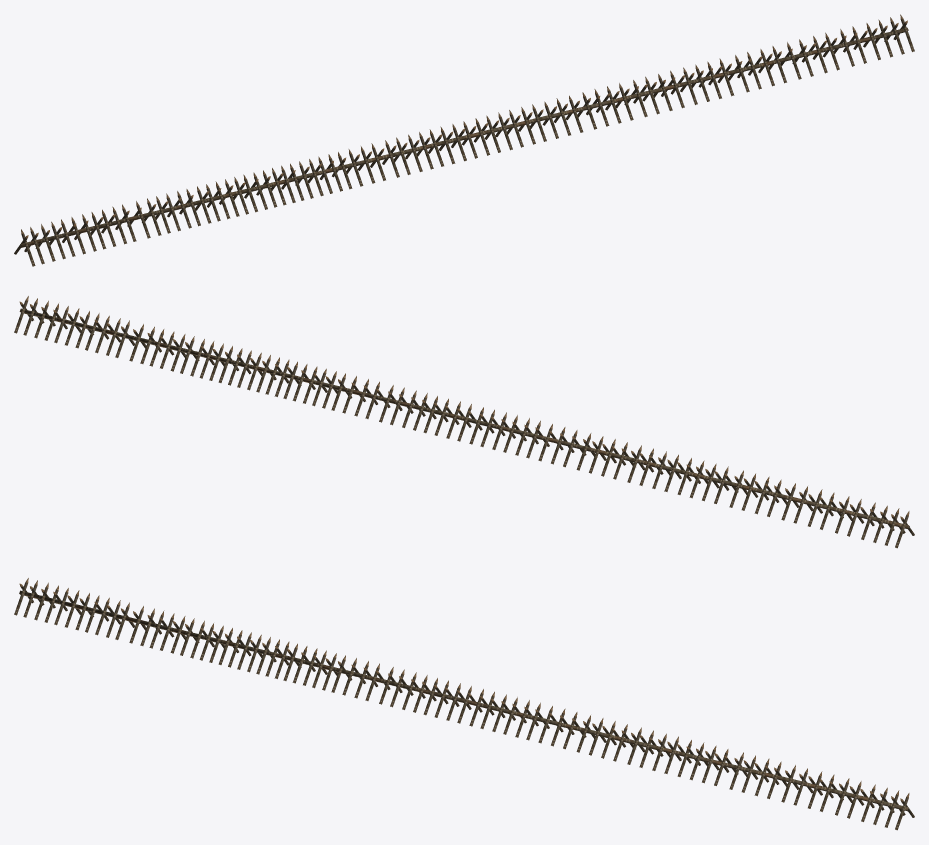
File: barricade_05.glb
3 renders of one model, top to bottom at view 1: azimuth 30°, elevation 25°; view 2: azimuth 150°, elevation 25°; view 3: azimuth 330°, elevation 25°, orthographic.
Visible parts, largest first — view 1: res\artifact\guild\barricade\barricade_05.bsr; view 2: res\artifact\guild\barricade\barricade_05.bsr; view 3: res\artifact\guild\barricade\barricade_05.bsr.
Part boxes in pixels (bbox=[...]): res\artifact\guild\barricade\barricade_05.bsr: bbox=[14, 14, 914, 266]; res\artifact\guild\barricade\barricade_05.bsr: bbox=[14, 296, 914, 548]; res\artifact\guild\barricade\barricade_05.bsr: bbox=[14, 578, 914, 830].
Size of the model in its own units: 500 by 15.73 by 18.84.
2 materials, 2 textured.
